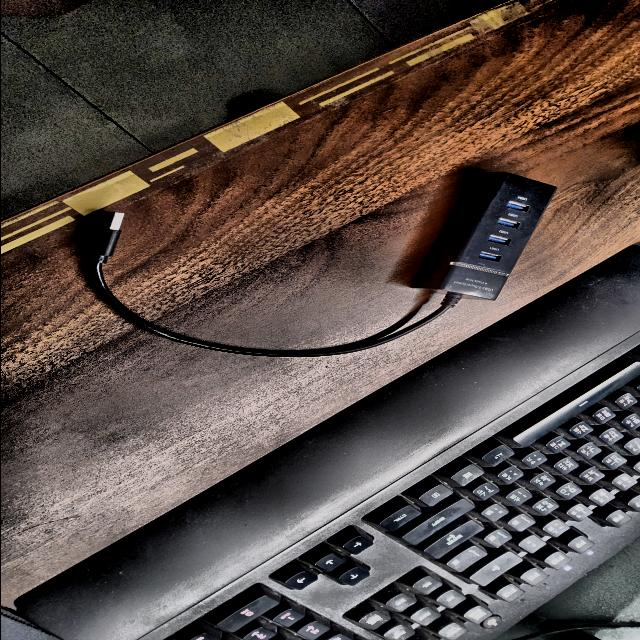HUB: (86, 172, 555, 357)
Keyboard: (18, 248, 640, 640)
